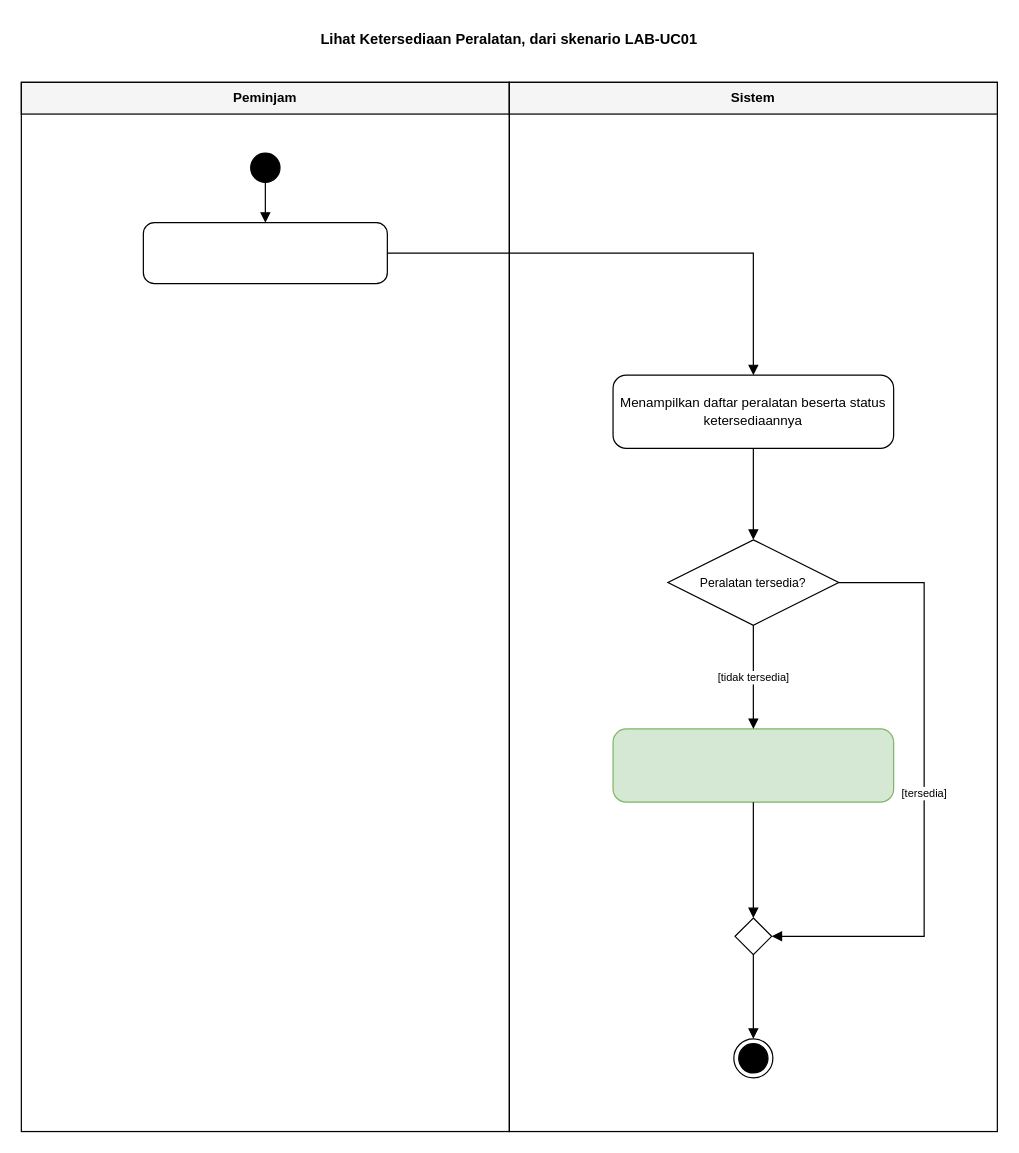
Some shapes in this 1019 by 1153 pixel diagram are drawn without their labels. Each missing label, with the centre of its shape:
"Membuka fungsi Lihat Ketersediaan Peralatan" goes at point (264, 252).
"Menampilkan pesan tidak ada peralatan yang tersedia" goes at point (753, 765).
